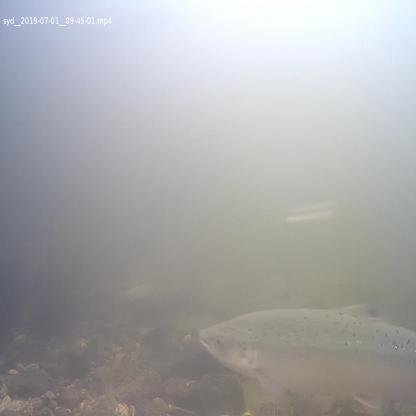salmon: (195, 299, 416, 412)
